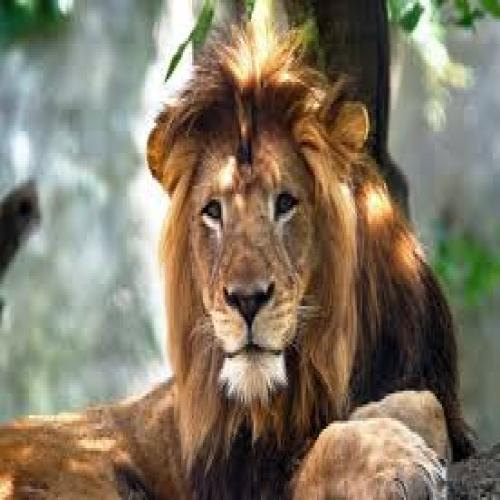lion-endangered: (0, 41, 458, 500)
